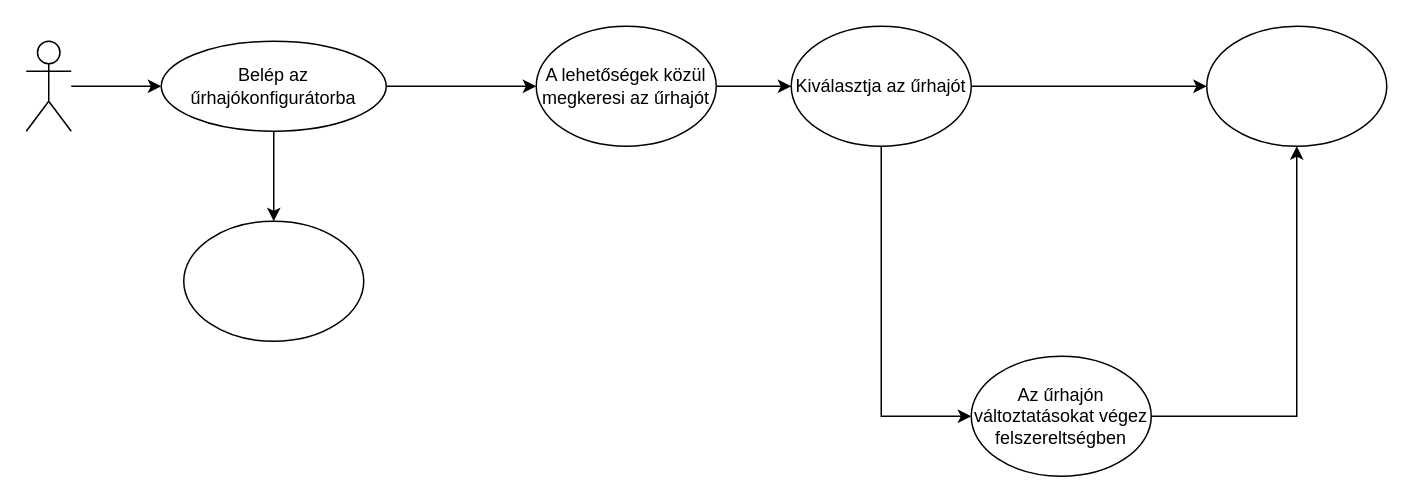
The diagram is 1413 pixels wide and 503 high, and some of its shapes have lost their labels. The shapes that lost their labels are listed below. From the top down, each one's centre as x and y in pixels, then its label:
the point at 1296,85: Elmenti az űrhajót
the point at 273,280: Megnézi az eddigi mentett űrhajóit
